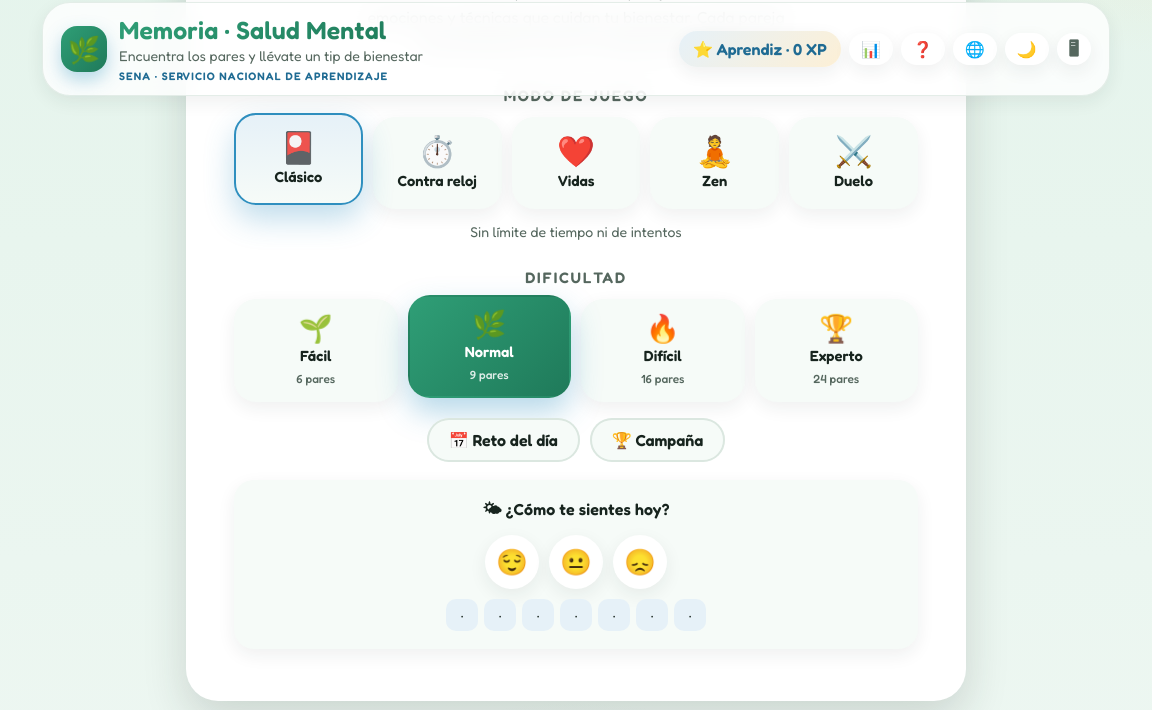
Test: comodín y racha › usa el comodín una sola vez por partida
The width and height of the screenshot is (1152, 710).
(page scrolled)
Click the button with aria-label "Fácil · 6 pares".
click(316, 350)  # box [234,299,398,402]
(page scrolled)
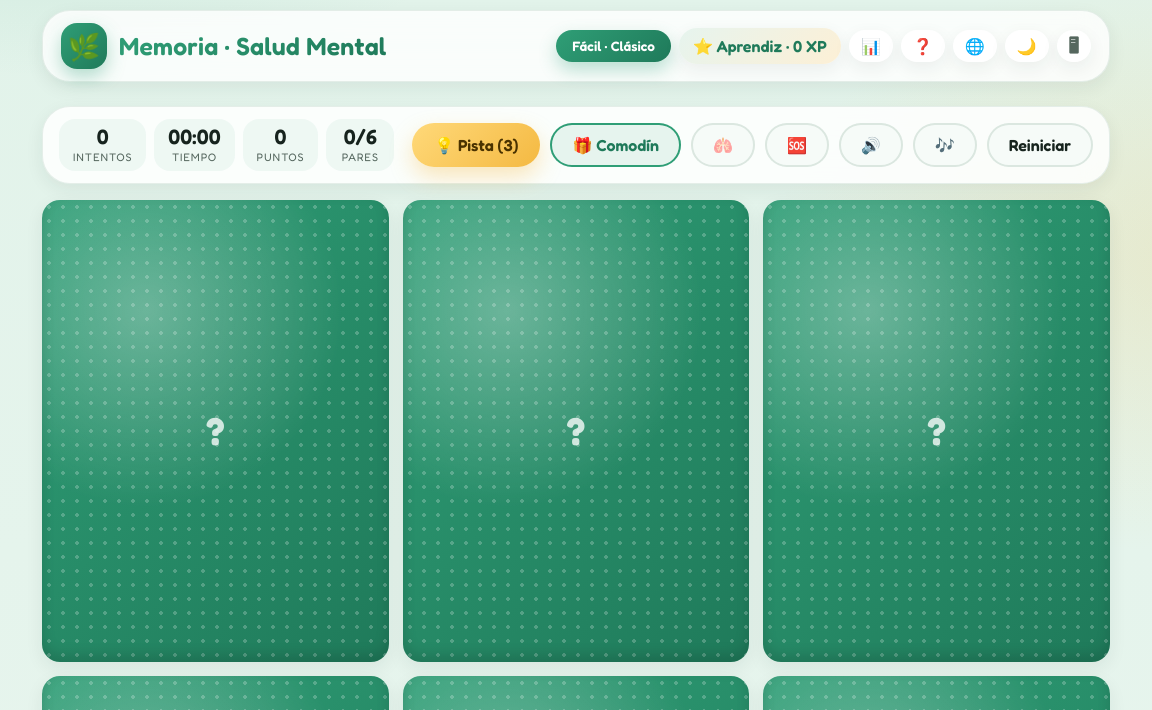
expect the button "🎁 Comodín" is enabled: met
Click the button "🎁 Comodín".
click(616, 145)  # box [550,123,681,167]
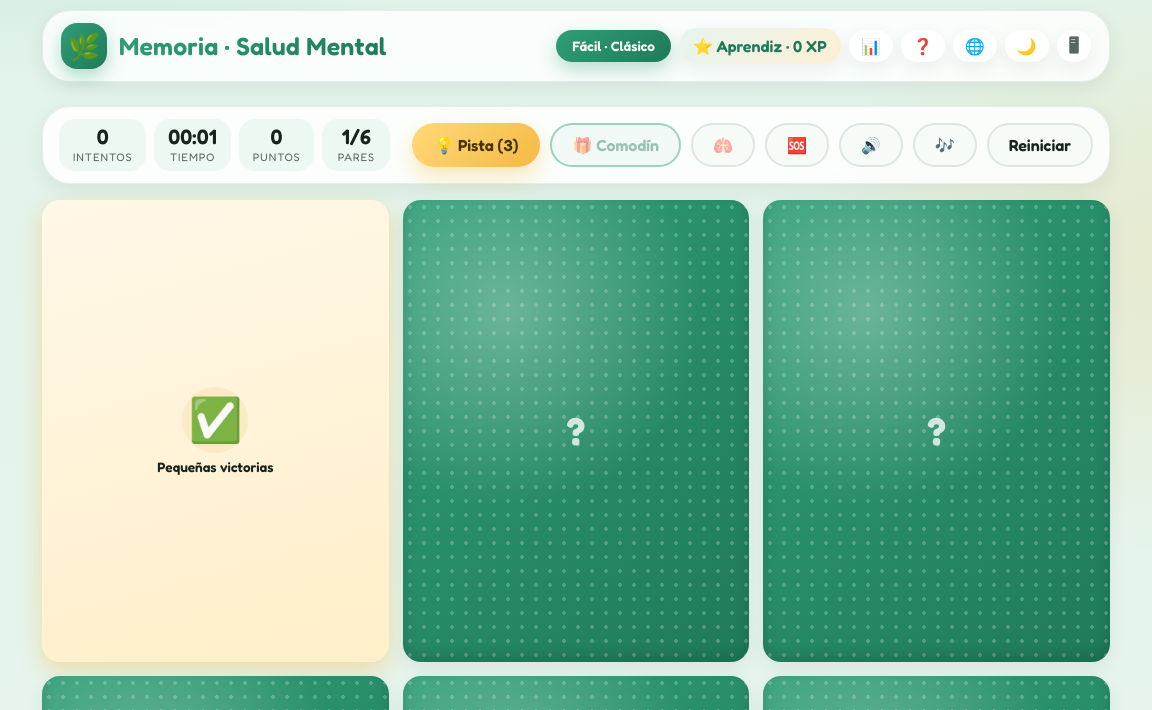
expect the text "1/6" is shown: met, box [342,124,371,149]
expect the button "🎁 Comodín" is disabled: met, box [550,123,681,167]
